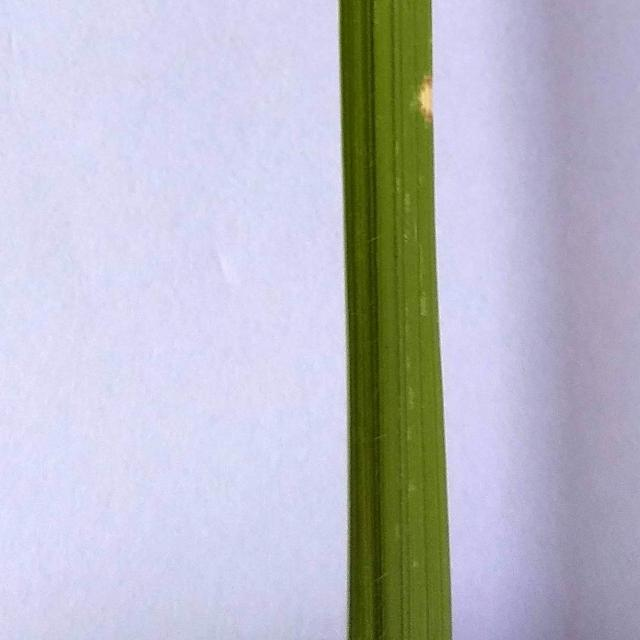Blast: (416, 83, 433, 115)
